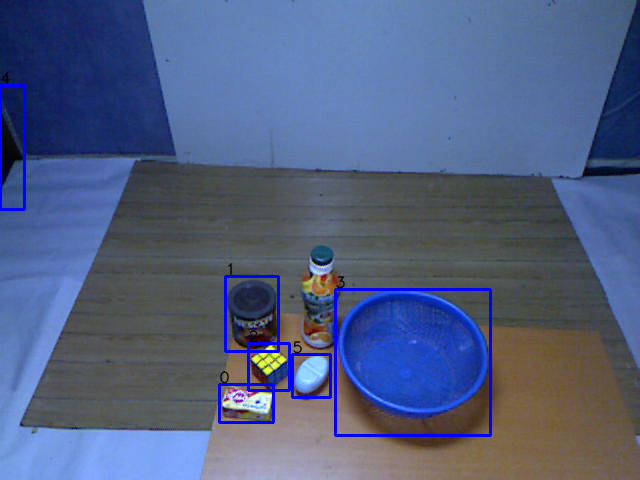cafe: (223, 277, 280, 354)
colador: (332, 287, 491, 419)
cubix: (247, 341, 292, 391)
jabon: (287, 353, 331, 400)
mantequilla: (218, 381, 278, 427)
yogurt: (293, 245, 346, 356)
